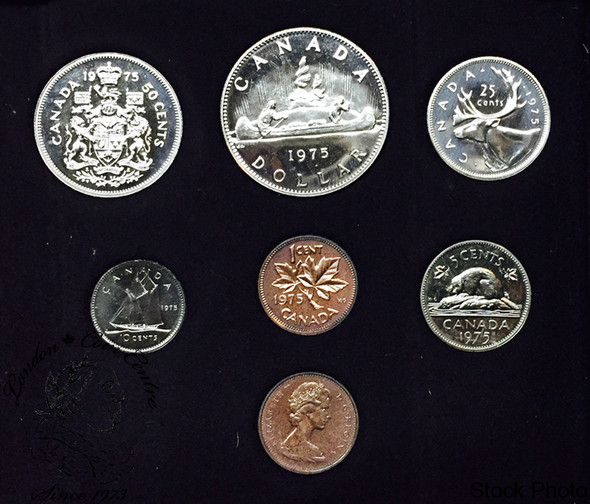coin: (221, 28, 388, 195), (34, 53, 181, 196), (427, 57, 549, 179), (421, 240, 530, 350), (258, 373, 357, 473), (258, 235, 356, 334), (91, 260, 185, 352)
